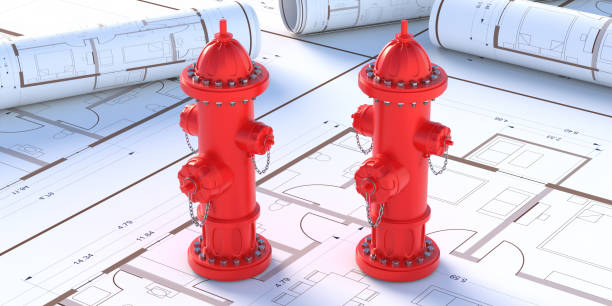firehdyrant: (341, 19, 458, 282), (167, 15, 277, 286)
